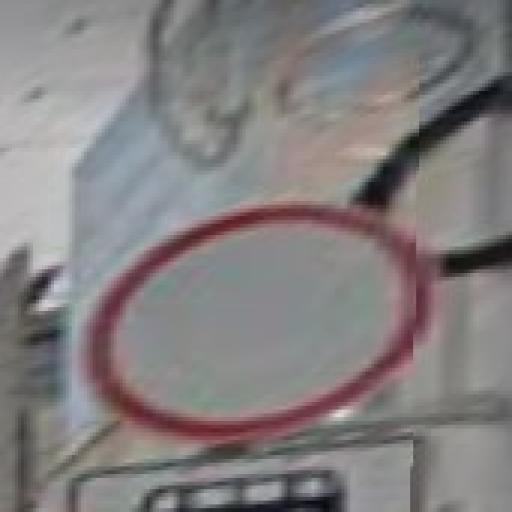traffic_sign: (85, 198, 438, 449)
